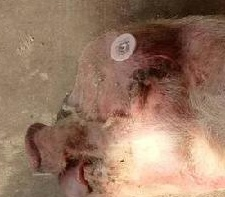text: (100, 25, 149, 68)
